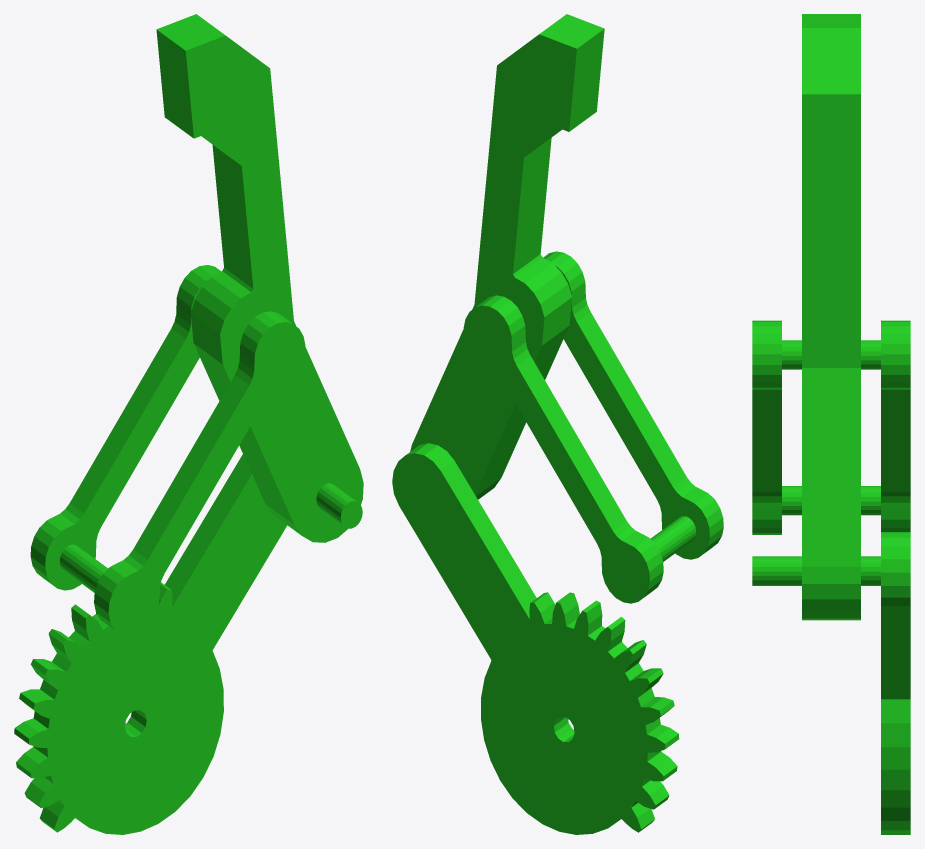
File: Gripper_right.dae
The picture shows the model from 3 angles, left to right: view 1: azimuth 30°, elevation 25°; view 2: azimuth 150°, elevation 25°; view 3: azimuth 270°, elevation 25°; orthographic projection. The views are drawn at different scales.
Visible parts, largest first — view 1: gripper_right; view 2: gripper_right; view 3: gripper_right.
Part boxes in pixels (x1,y1,x2,y2): gripper_right: (14,14,363,834); gripper_right: (392,14,723,834); gripper_right: (752,14,910,834).
Size of the model in its own units: 0.035 by 0.016 by 0.092.
